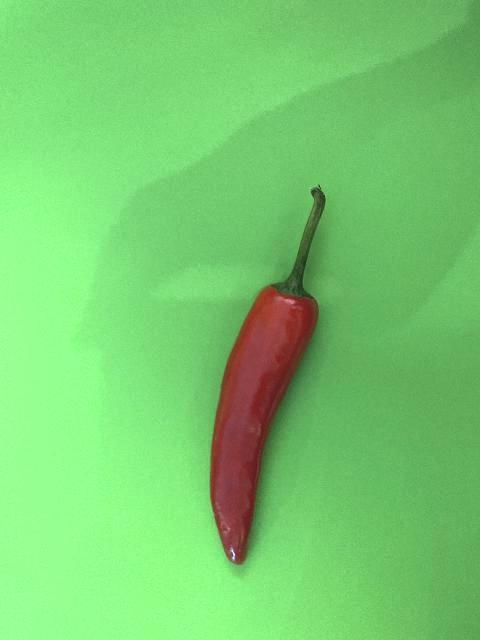chilli: (209, 186, 327, 566)
